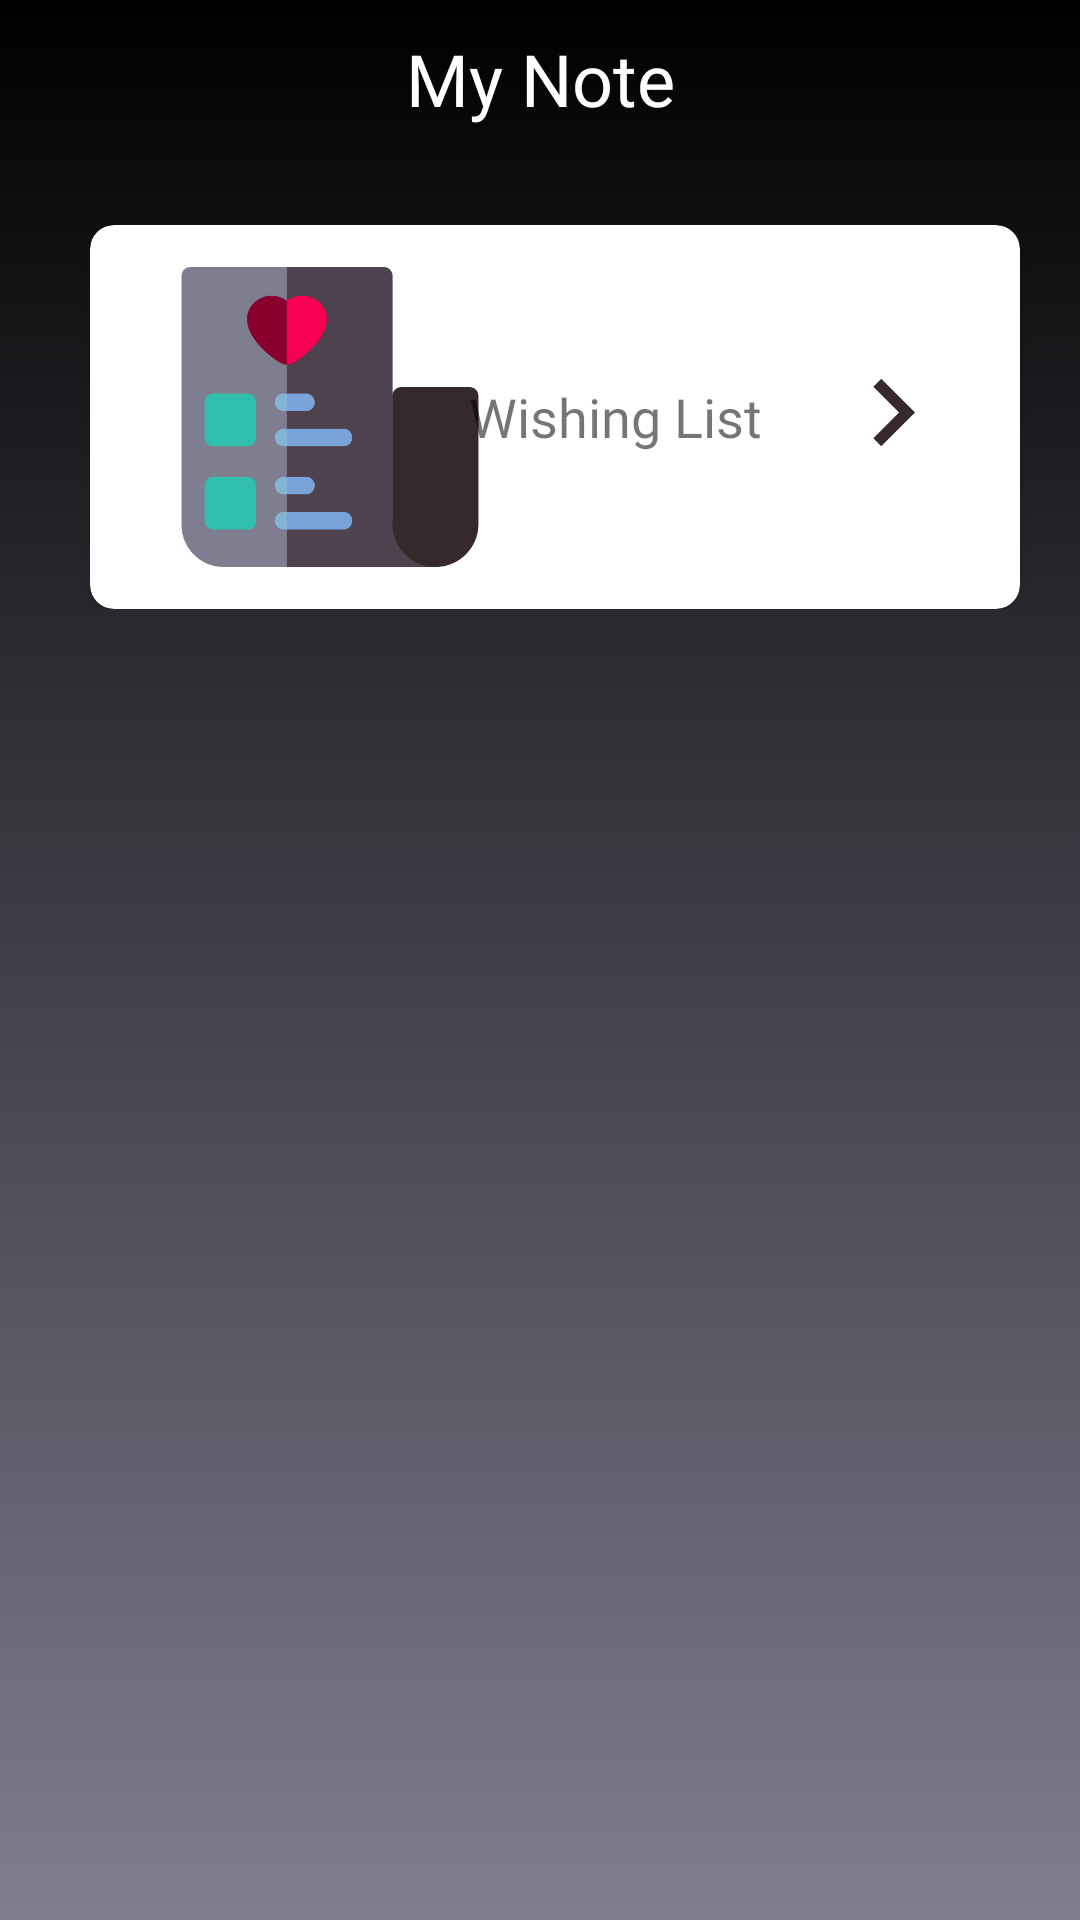

Named icons in this screenshot (1080 x 1920) and their centers, (x=x, y=y):
next: (x=894, y=412)
